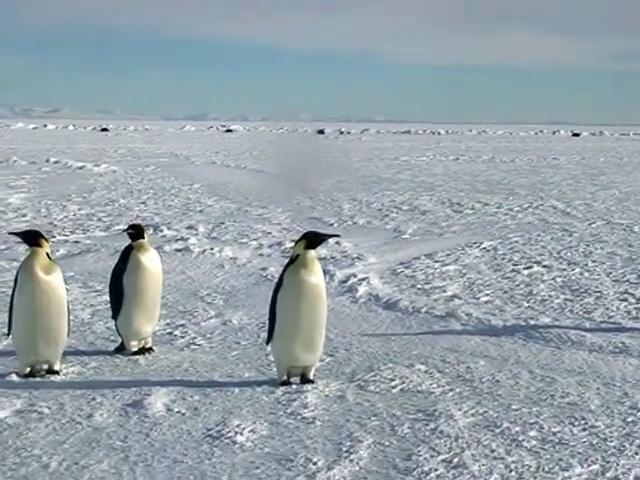animal: (266, 231, 338, 384)
